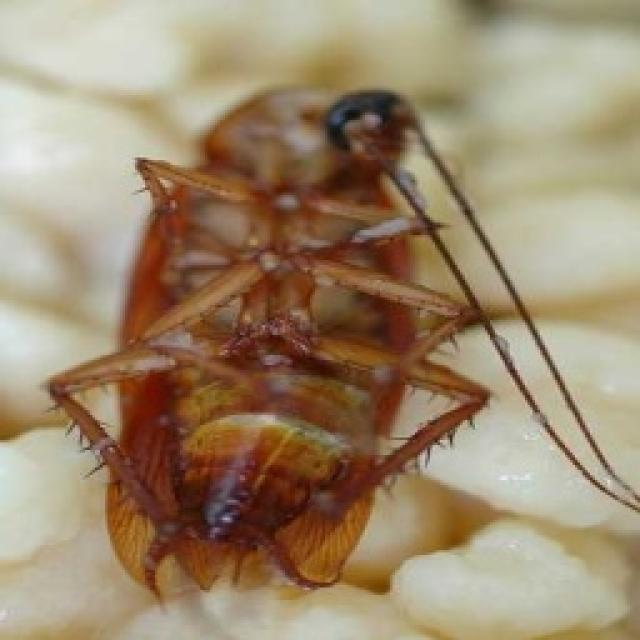cockroach: (41, 78, 636, 603)
